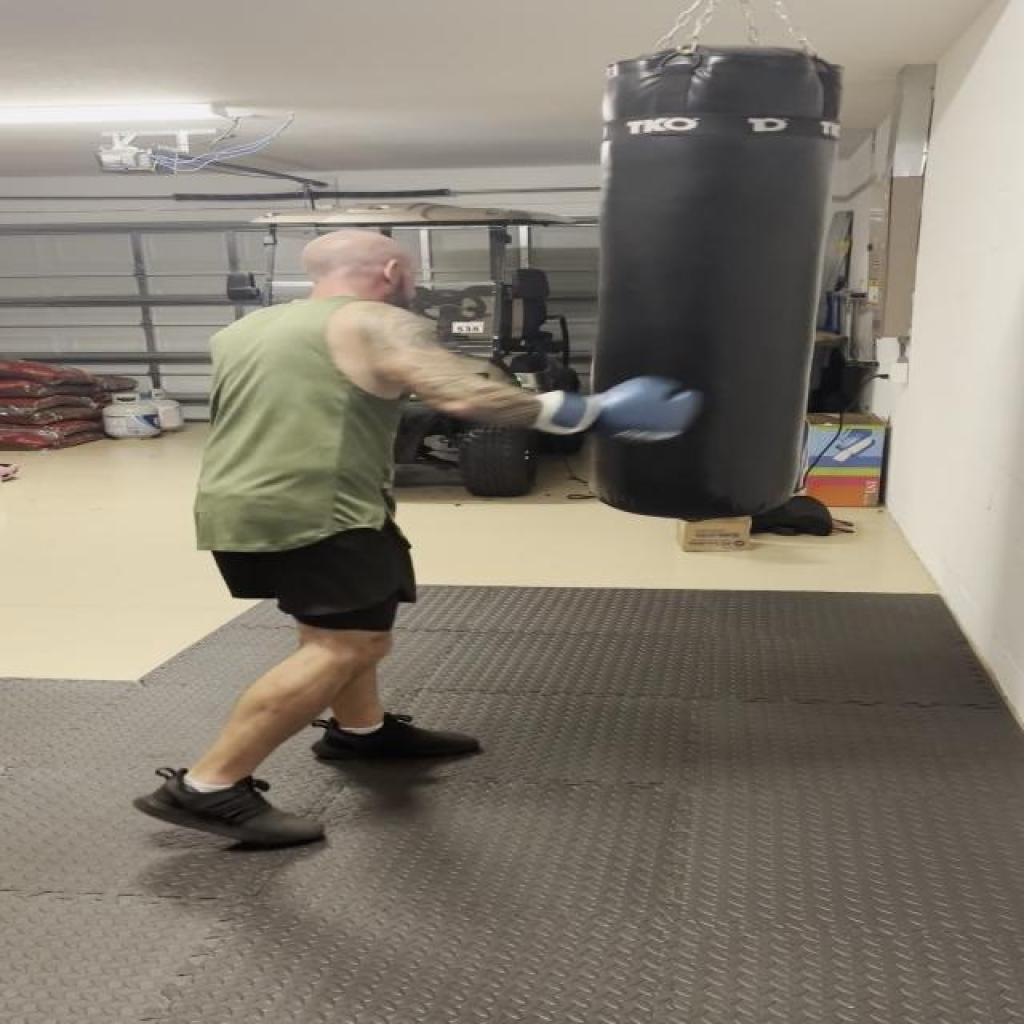bag: (582, 35, 845, 531)
hook: (216, 155, 718, 482)
